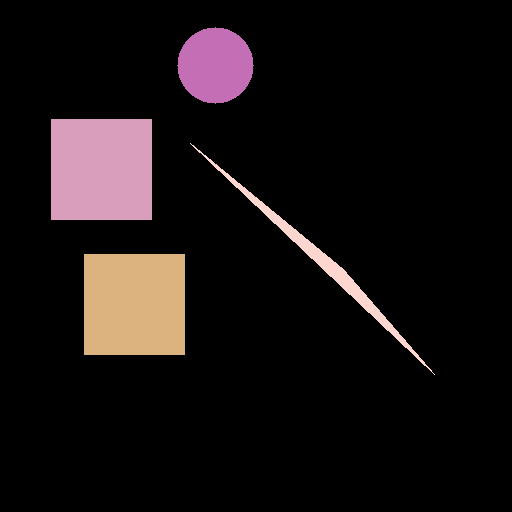circle: (177, 27, 253, 103)
square: (84, 254, 184, 354), (51, 119, 151, 219)
triangle: (190, 143, 434, 374)
